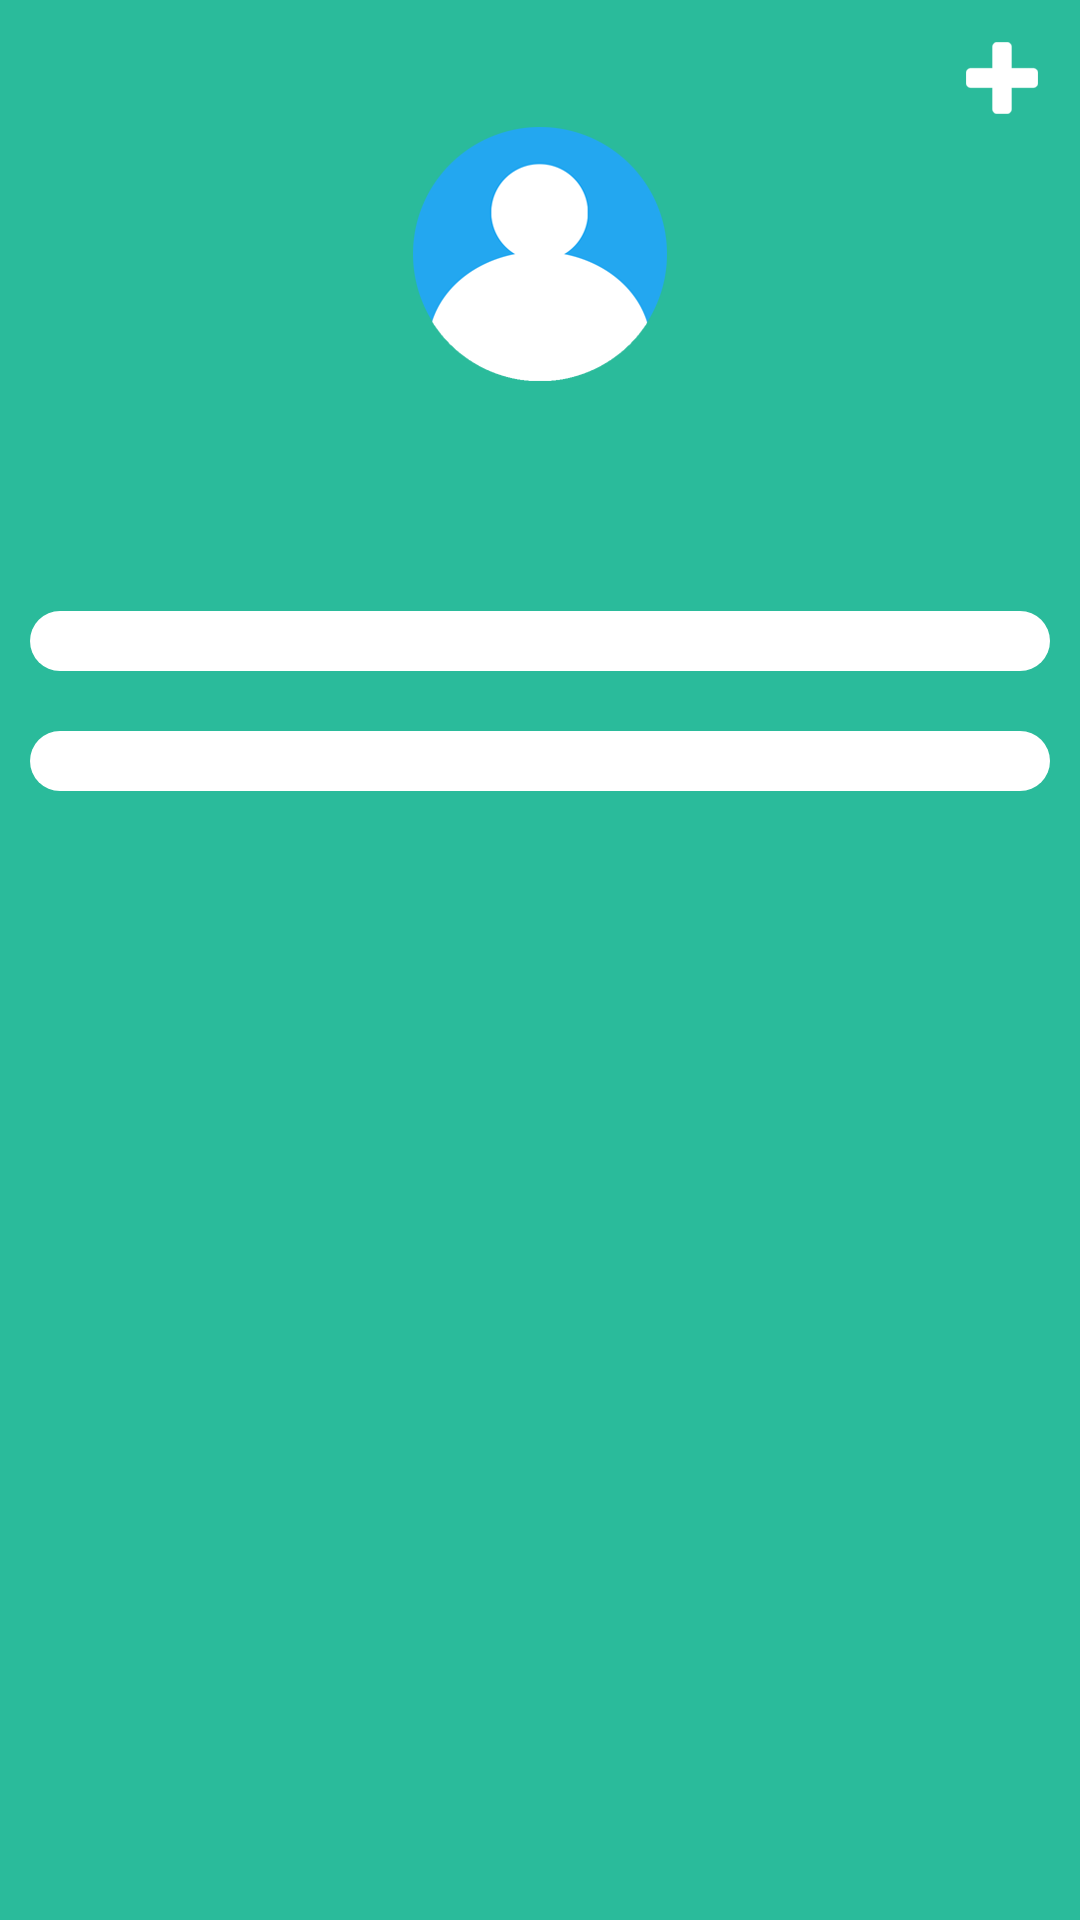

Icons on this 1080×1920 Android screen, each with the point to tap as [x,y]:
Add: [1002,78]
